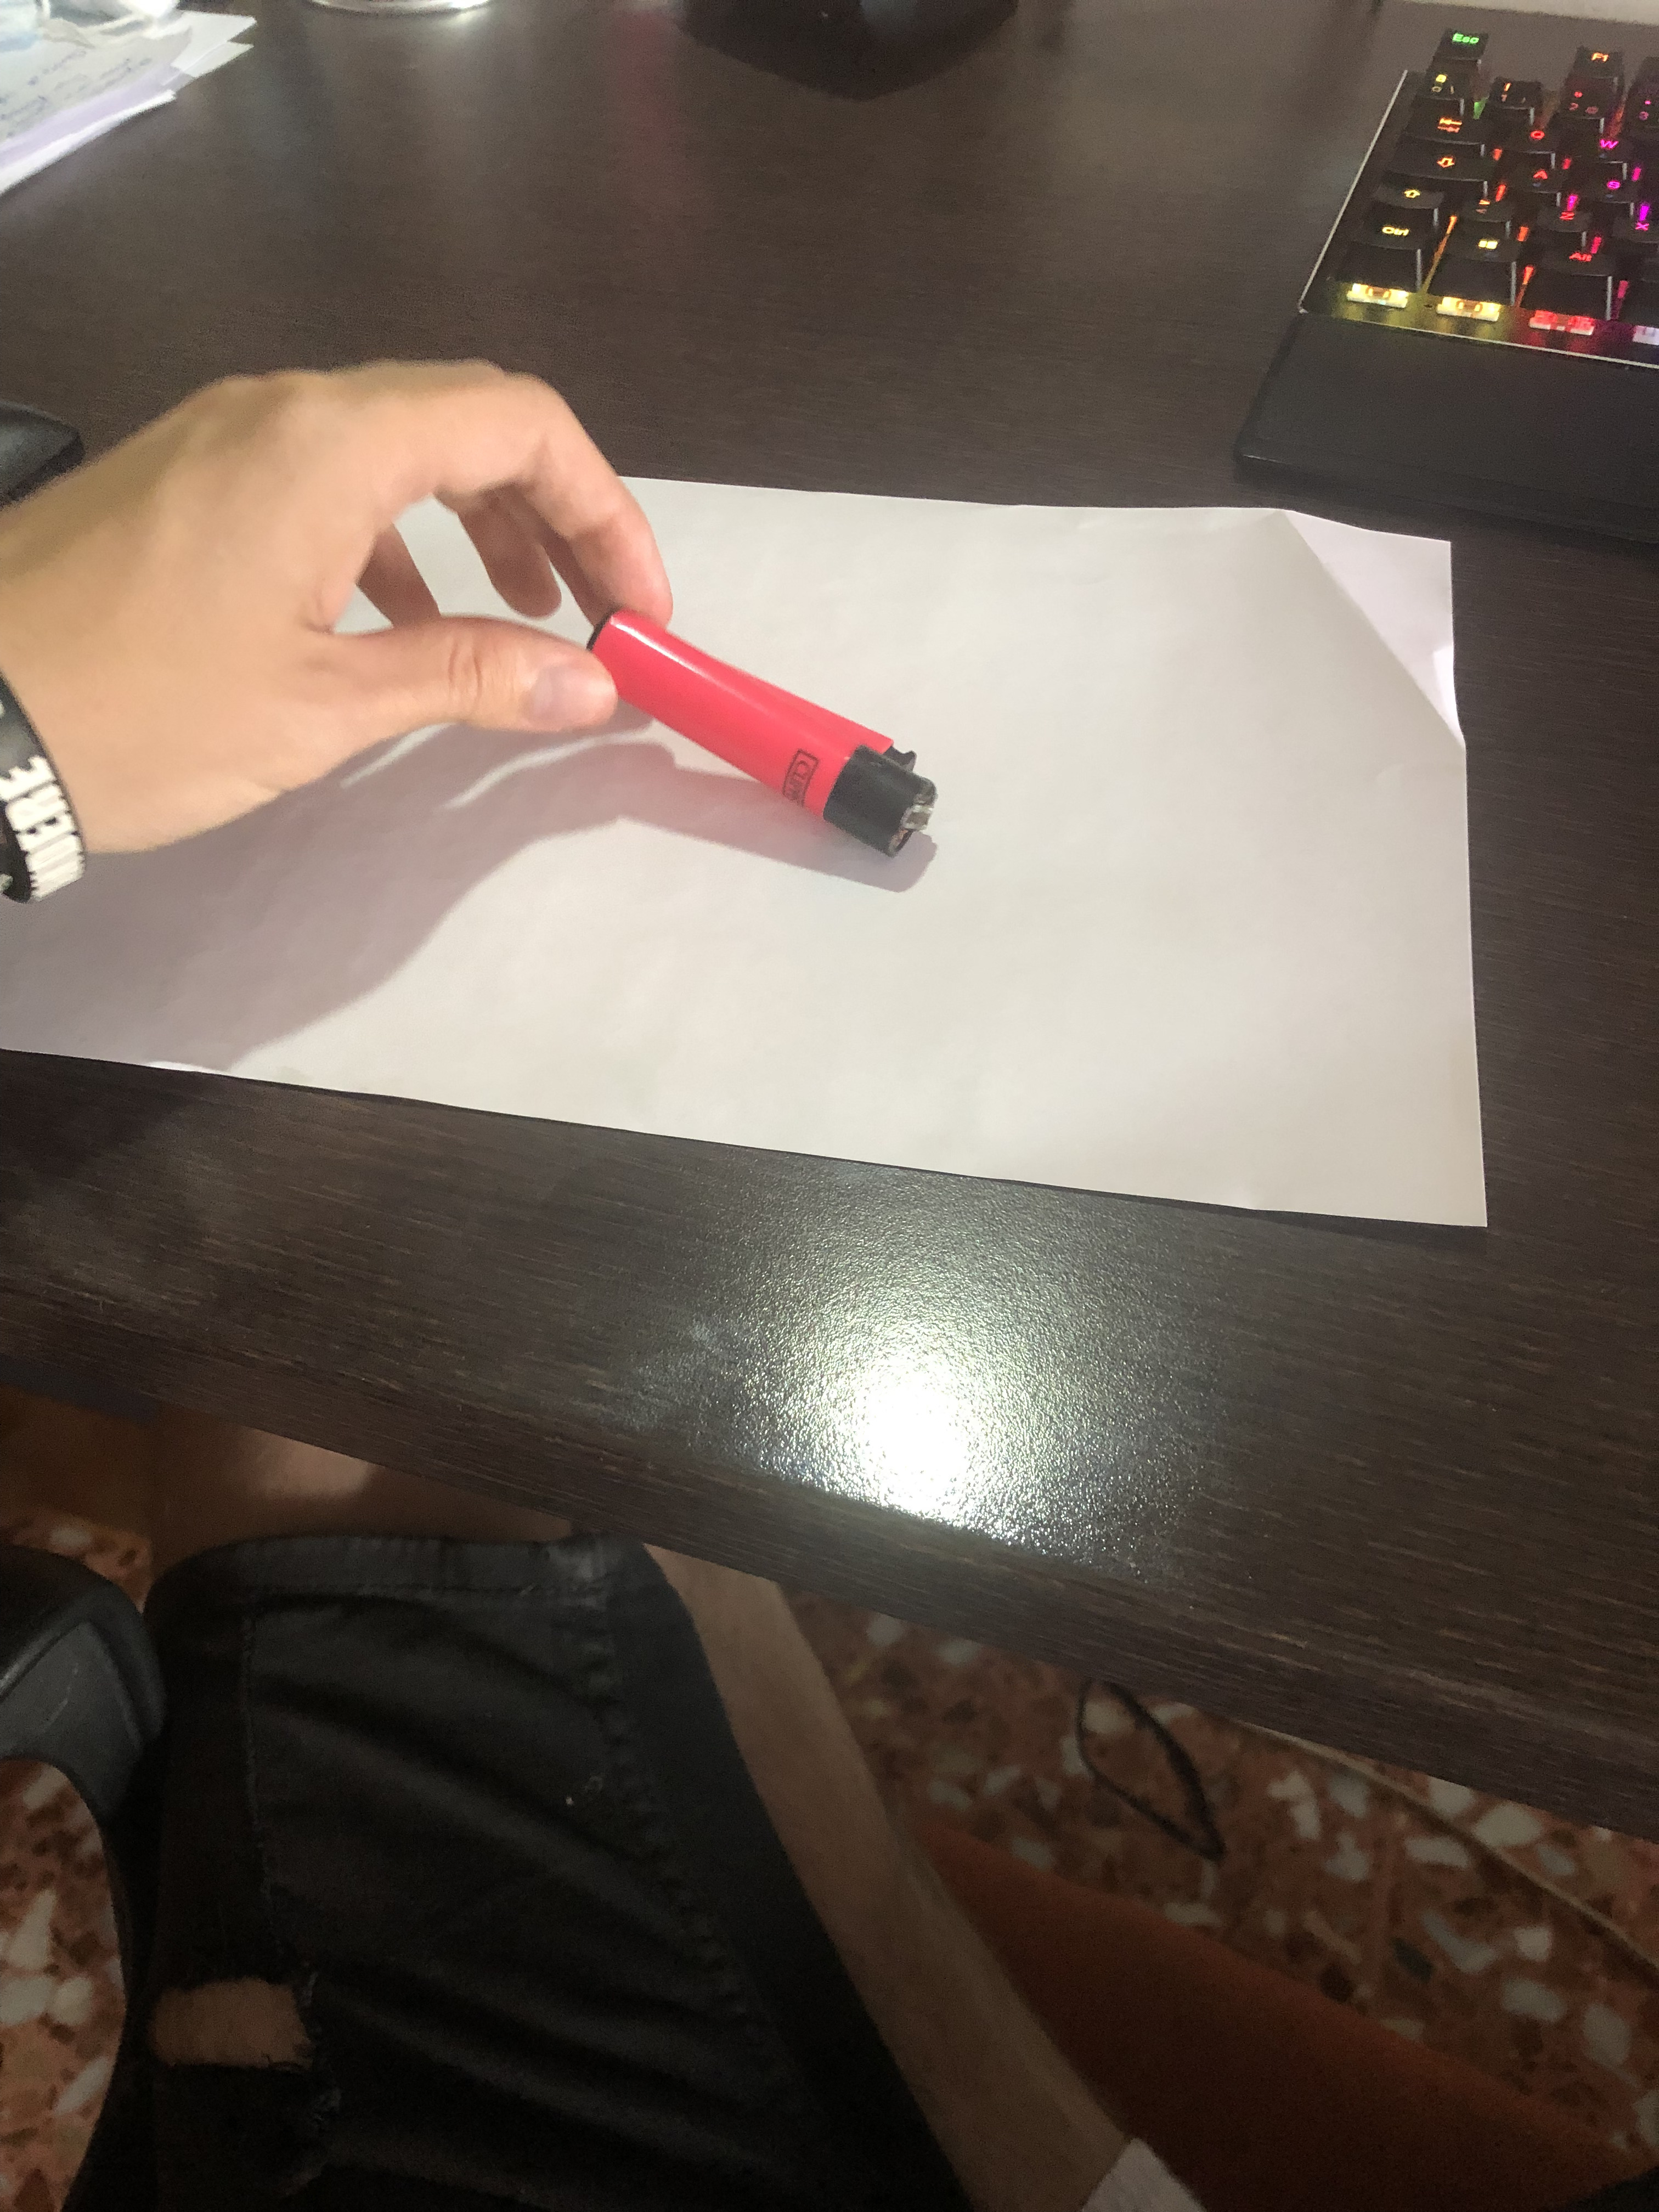Mechero: (589, 592, 951, 888)
